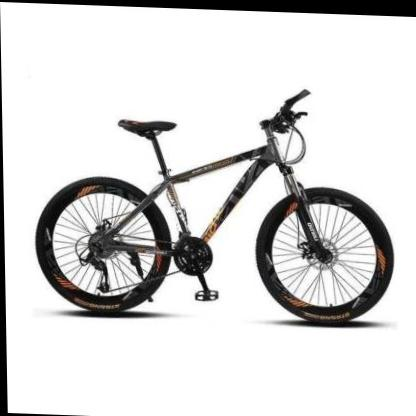Bicycle: (23, 74, 411, 343)
